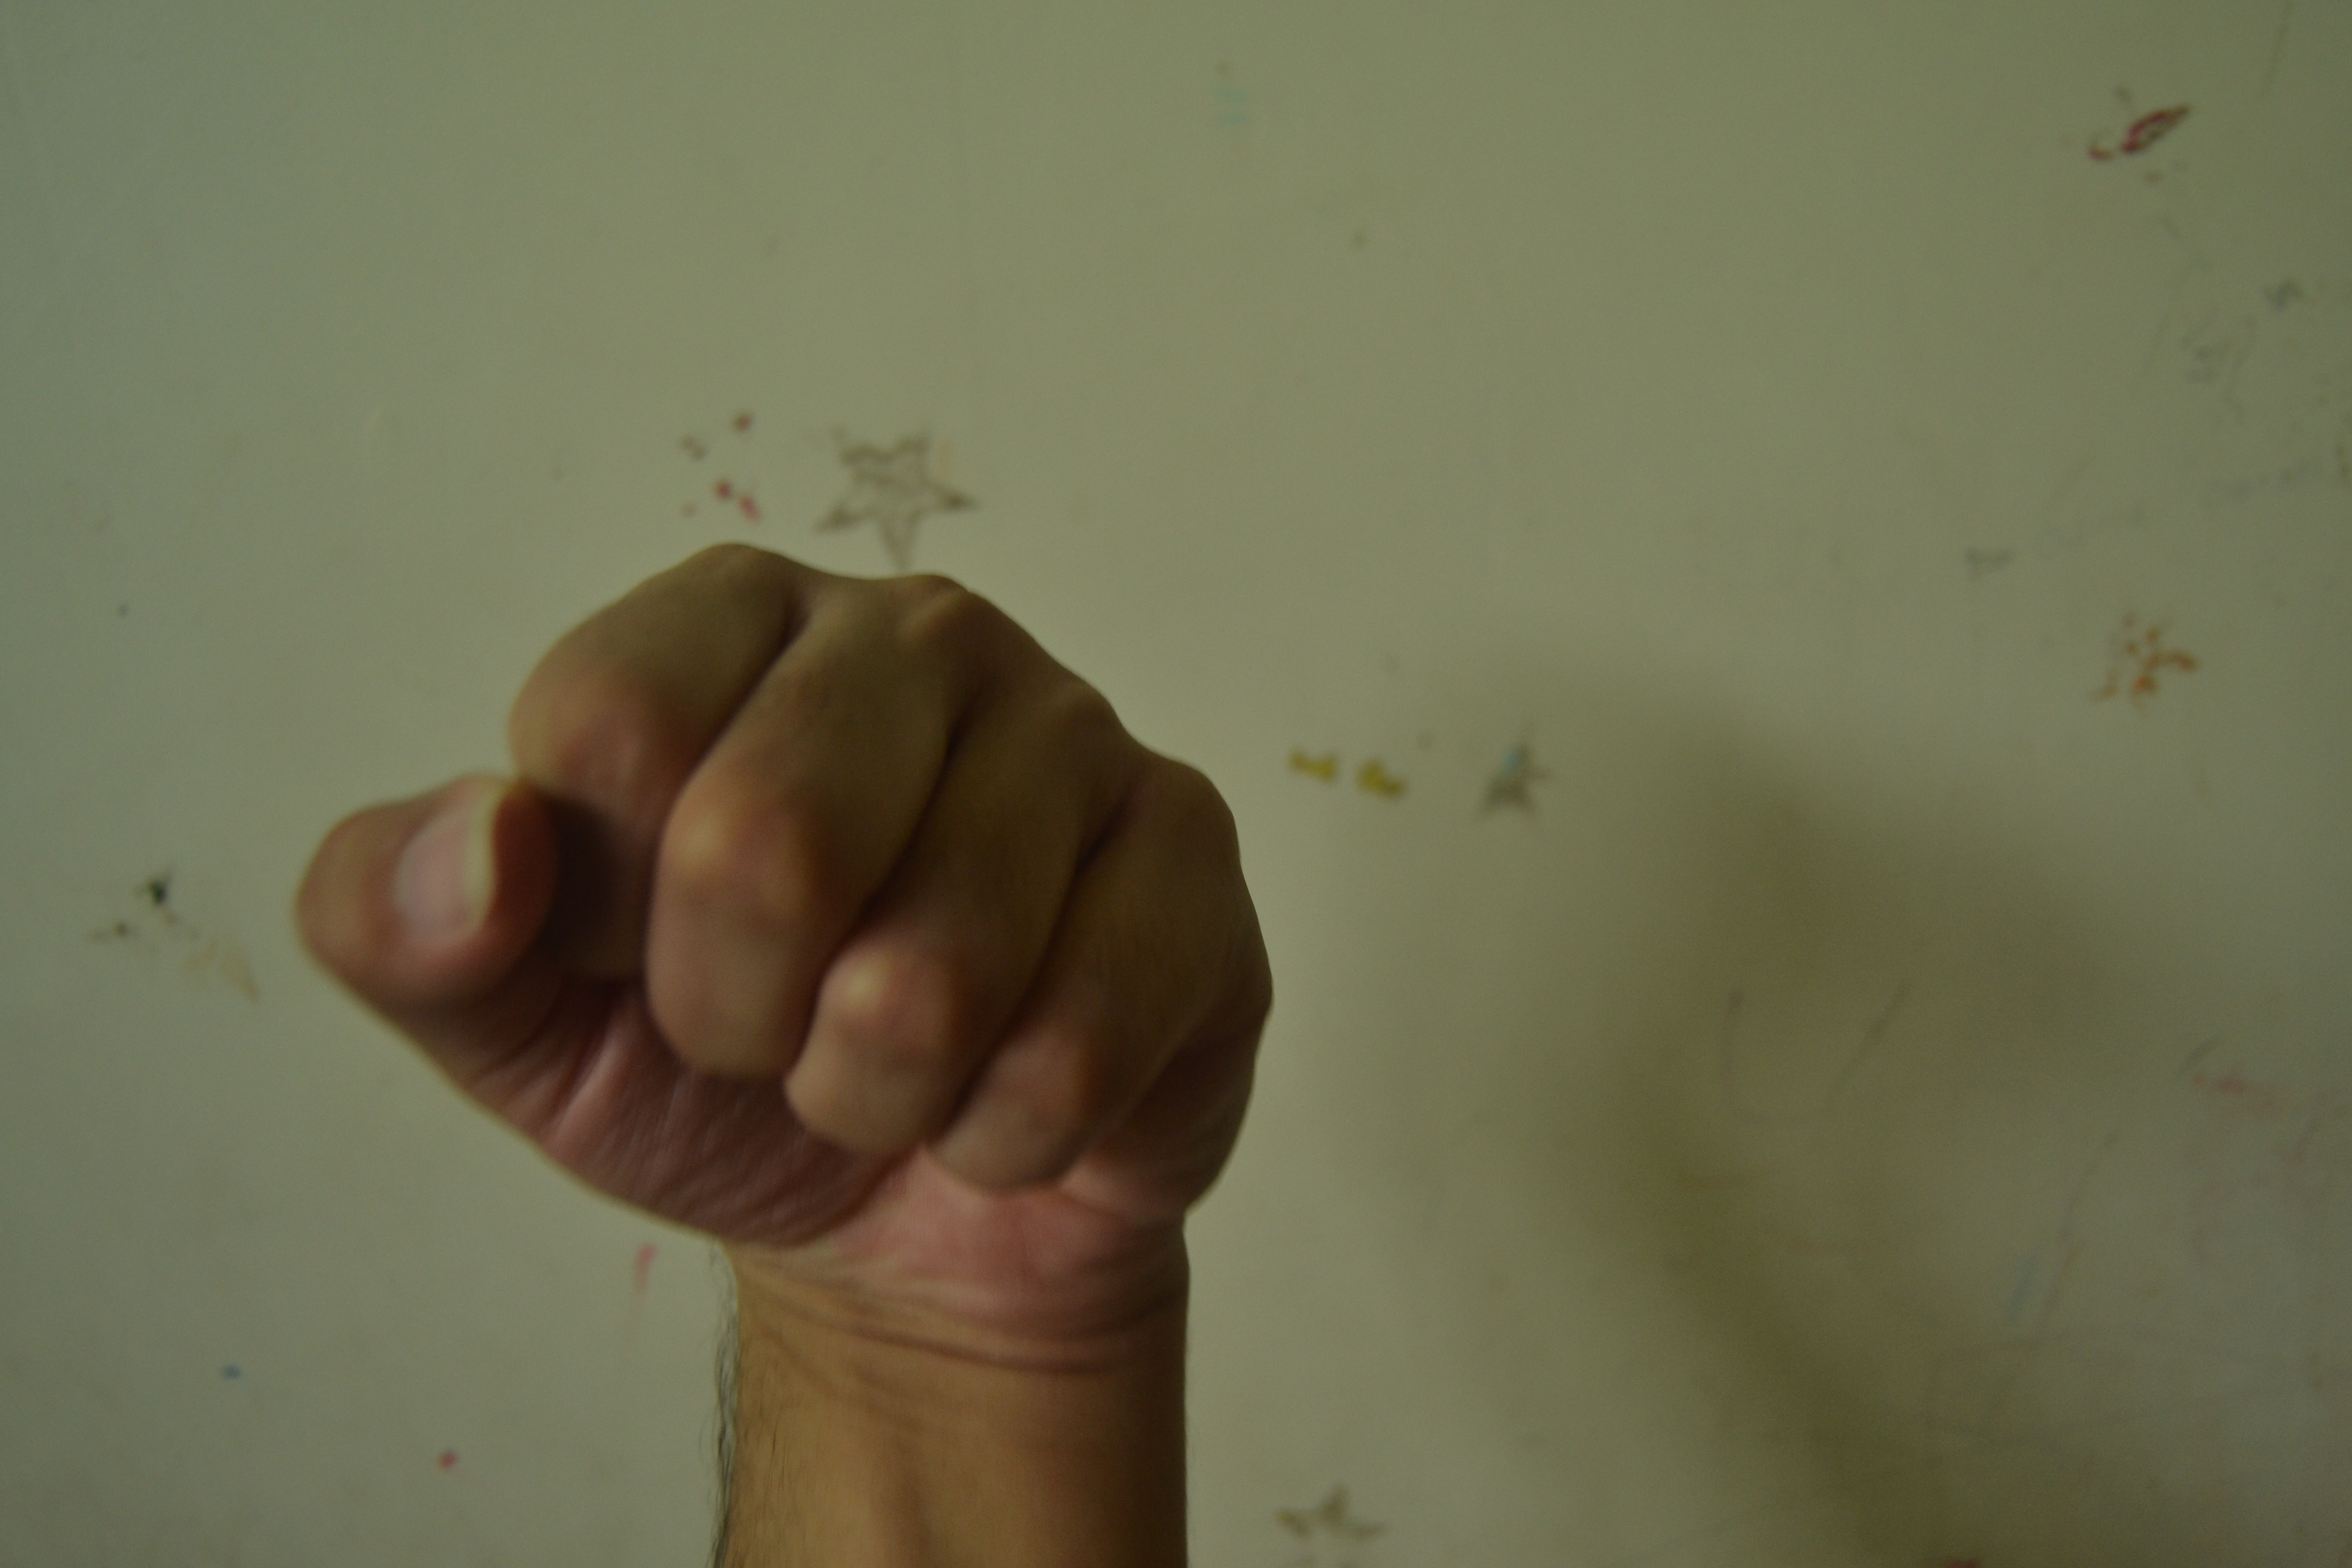click: (252, 525, 1354, 1316)
